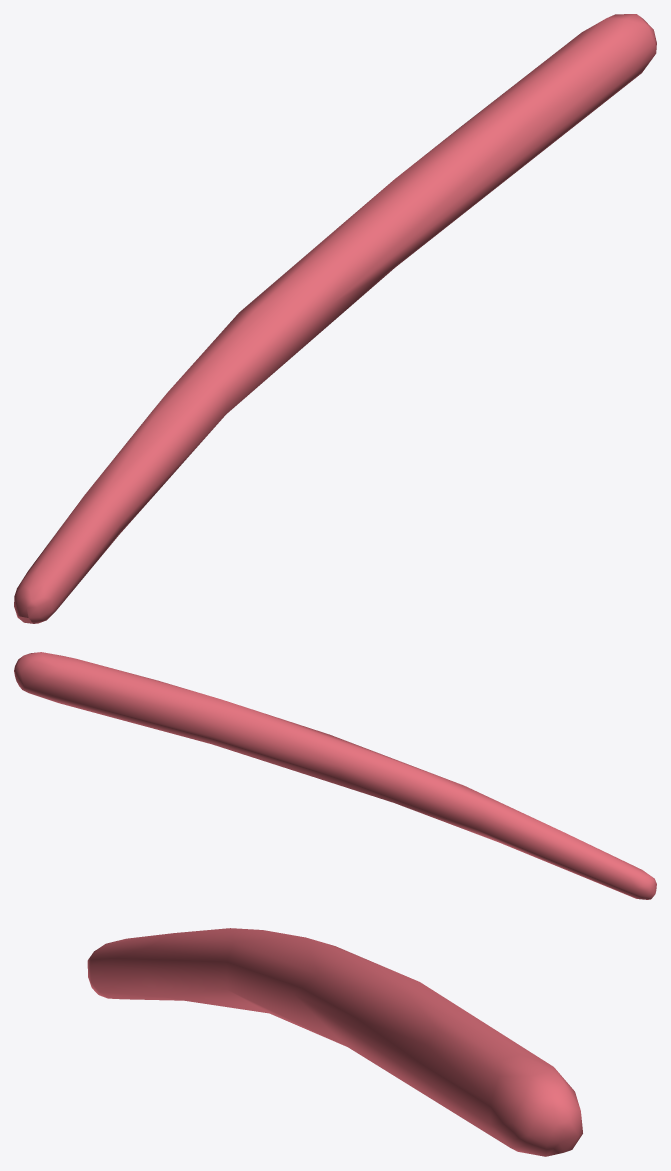
File: fma9425_fj3062.glb
3 views of the same model, one above another, from view 1: azimuth 30°, elevation 25°; view 2: azimuth 150°, elevation 25°; view 3: azimuth 270°, elevation 25° (orthographic). The views are drawn at different scales.
Visible parts, largest first — view 1: FMA9425_FJ3062; view 2: FMA9425_FJ3062; view 3: FMA9425_FJ3062.
Boxes of the visible parts, <box> form: FMA9425_FJ3062: <box>14,14,656,623</box>; FMA9425_FJ3062: <box>14,652,656,899</box>; FMA9425_FJ3062: <box>87,928,582,1156</box>.
Bounding box in the file's own units: 0.0352 × 0.0128 × 0.0143.
